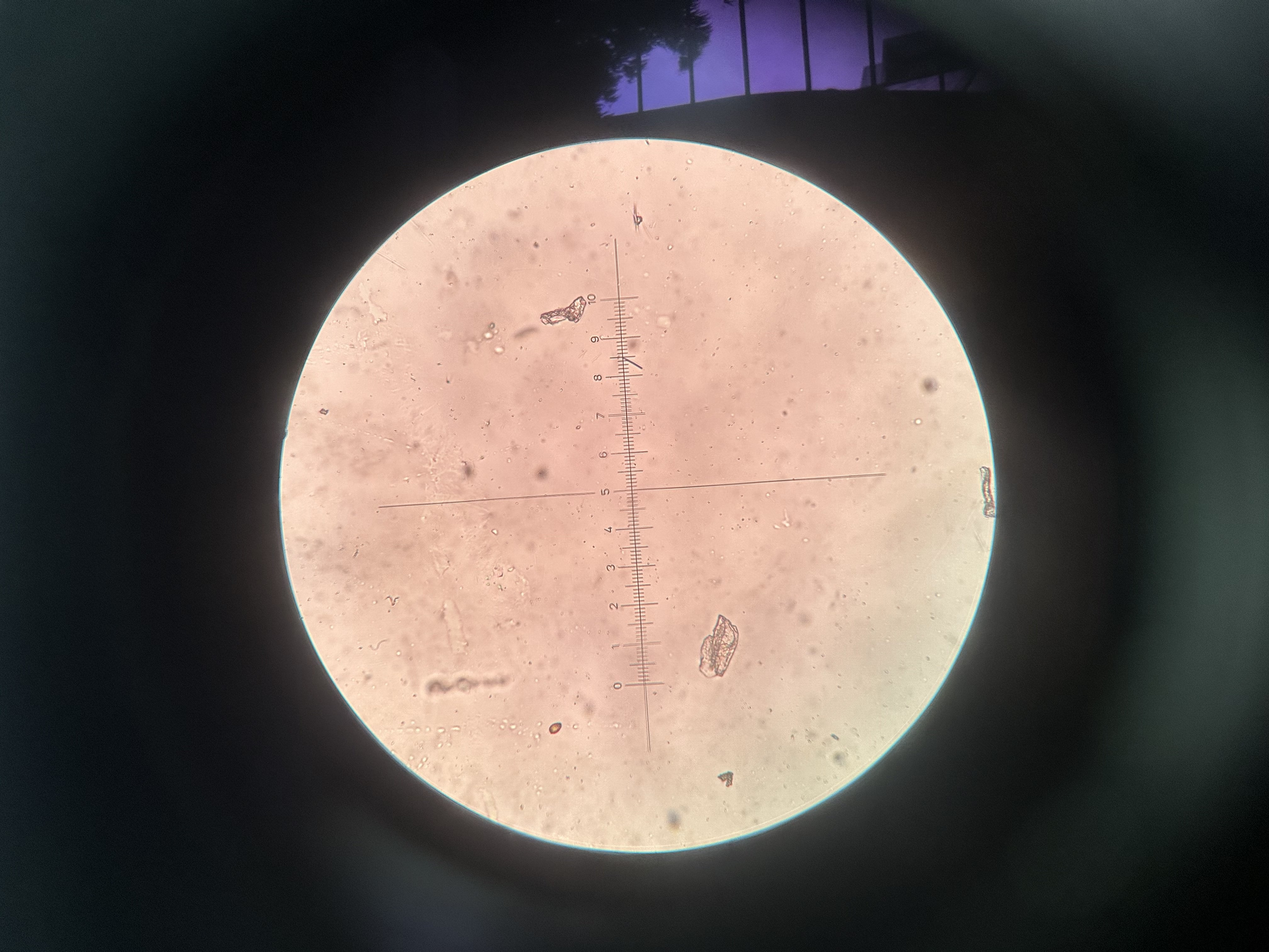not_microplastic: (698, 614, 740, 682), (414, 674, 516, 695), (437, 598, 468, 659), (538, 296, 592, 328), (974, 460, 1000, 526), (474, 327, 508, 357), (625, 204, 645, 234), (915, 378, 942, 396), (717, 769, 737, 788), (656, 316, 673, 334), (548, 722, 566, 734)
